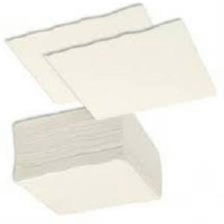tissue: (0, 0, 224, 125), (3, 99, 170, 221)
